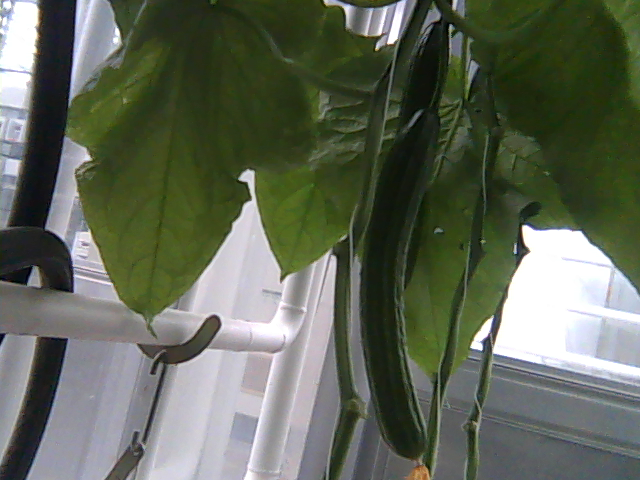concombre: (360, 95, 444, 480), (391, 17, 455, 145)
